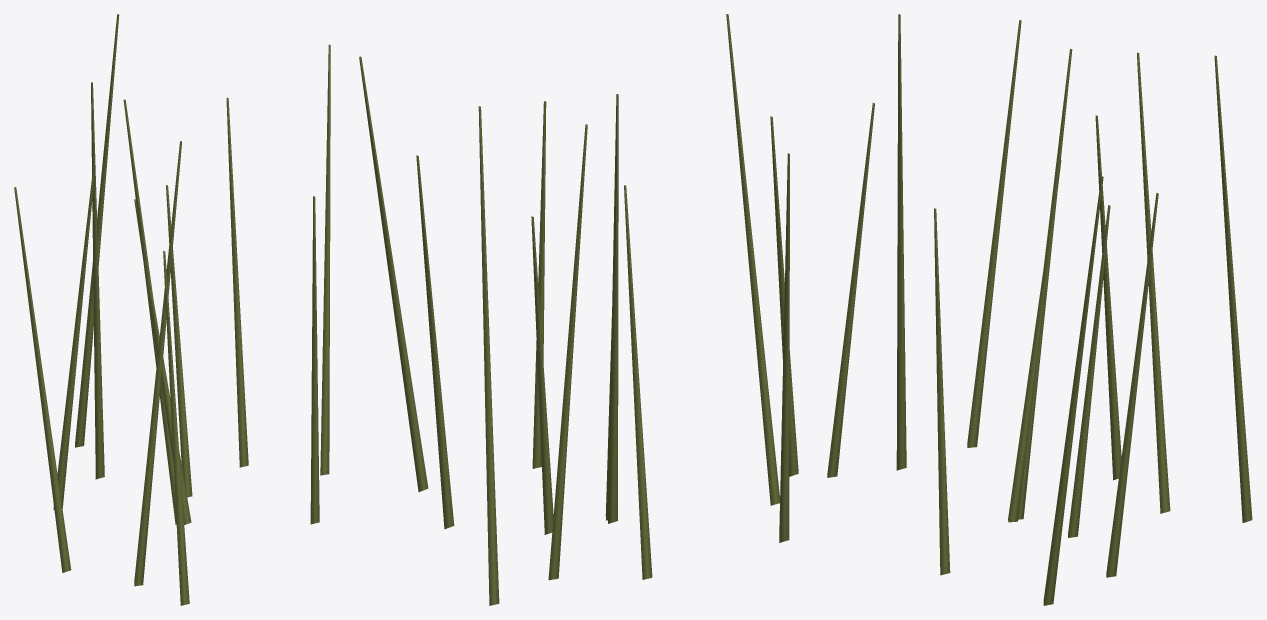
The model's file is caral_totora_lod1.glb.
3 renders of one model, left to right at view 1: azimuth 30°, elevation 25°; view 2: azimuth 150°, elevation 25°; view 3: azimuth 270°, elevation 25°, orthographic. The views are drawn at different scales.
Parts seen in each view (by area): view 1: GEO-Kit_totora_LOD1; view 2: GEO-Kit_totora_LOD1; view 3: GEO-Kit_totora_LOD1.
Boxes of the visible parts, x1,y1,x2,y2 form: GEO-Kit_totora_LOD1: (14,14,330,605); GEO-Kit_totora_LOD1: (359,14,798,605); GEO-Kit_totora_LOD1: (827,14,1252,605).
Bounding box in the file's own units: 2.03 × 2.39 × 1.92.
